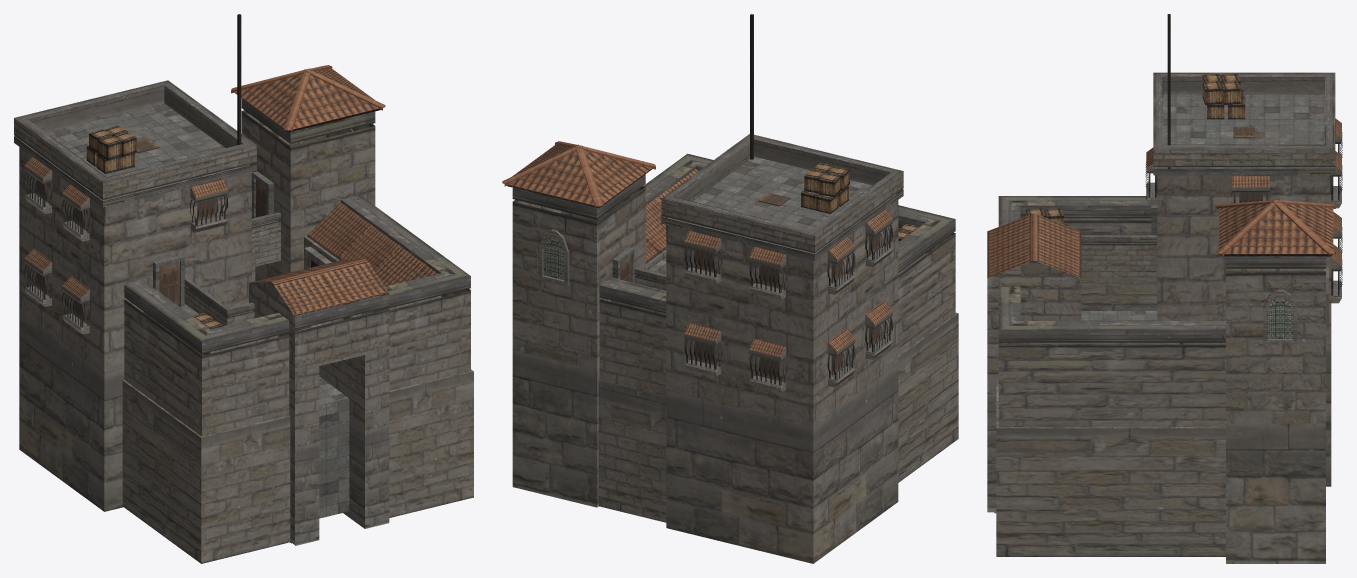
Rendered from barracks_stable.dae.
3 views of the same model, side by side, from view 1: azimuth 30°, elevation 25°; view 2: azimuth 150°, elevation 25°; view 3: azimuth 270°, elevation 25° (orthographic). The views are drawn at different scales.
Visible parts, largest first — view 1: Stable; view 2: Stable; view 3: Stable.
Part boxes in pixels (x1,y1,x2,y2): Stable: [14, 14, 473, 563]; Stable: [502, 14, 958, 563]; Stable: [987, 14, 1342, 563].
Size of the model in its own units: 28.59 by 26.69 by 38.82.
